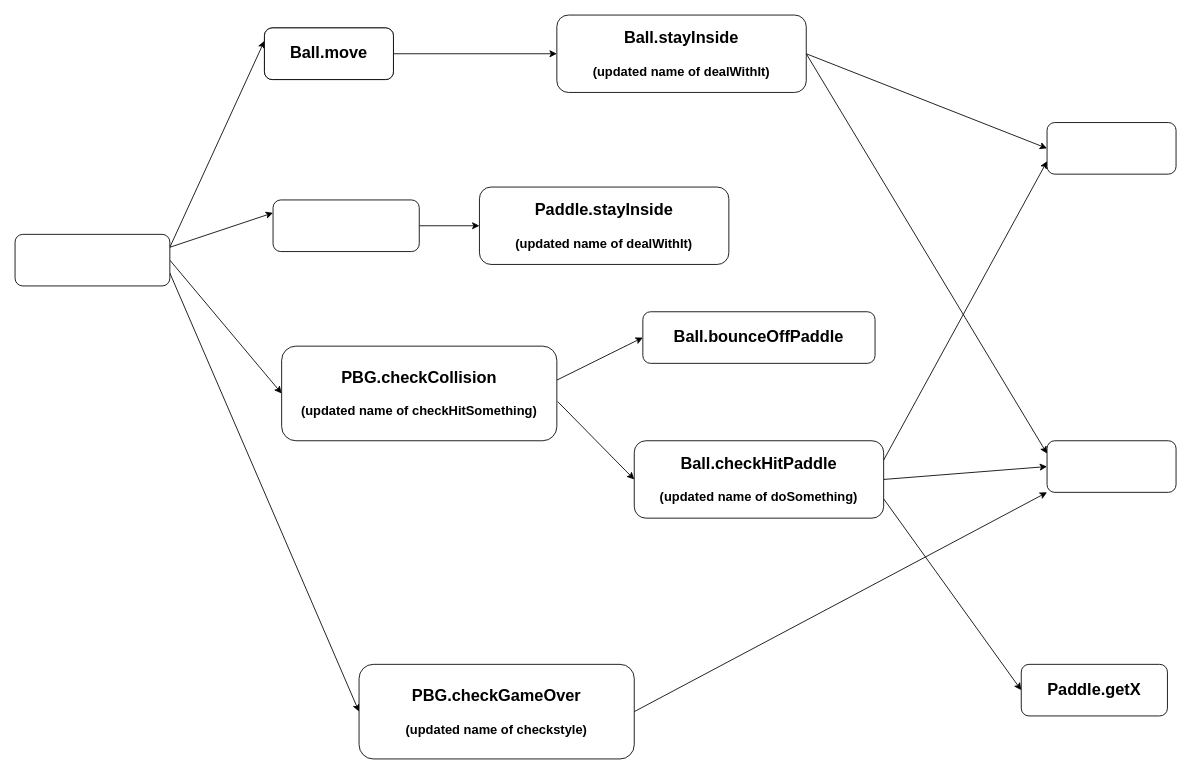
Image size: 1191x774. Some labels were removed from this diagram. Here are the shapes that lost their labels. From the top down, the centre of each, then its label:
the point at 1111,148: Ball.getX
the point at 345,225: Paddle.move
the point at 92,259: PBG.update
the point at 1111,466: Ball.getY
